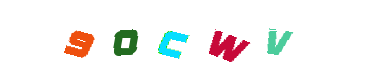9: (87, 0, 167, 80)
C: (131, 0, 211, 80)
O: (121, 0, 201, 80)
V: (220, 0, 300, 80)
W: (143, 0, 223, 80)
